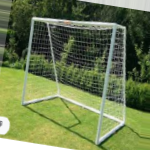goals: (21, 14, 128, 146)
